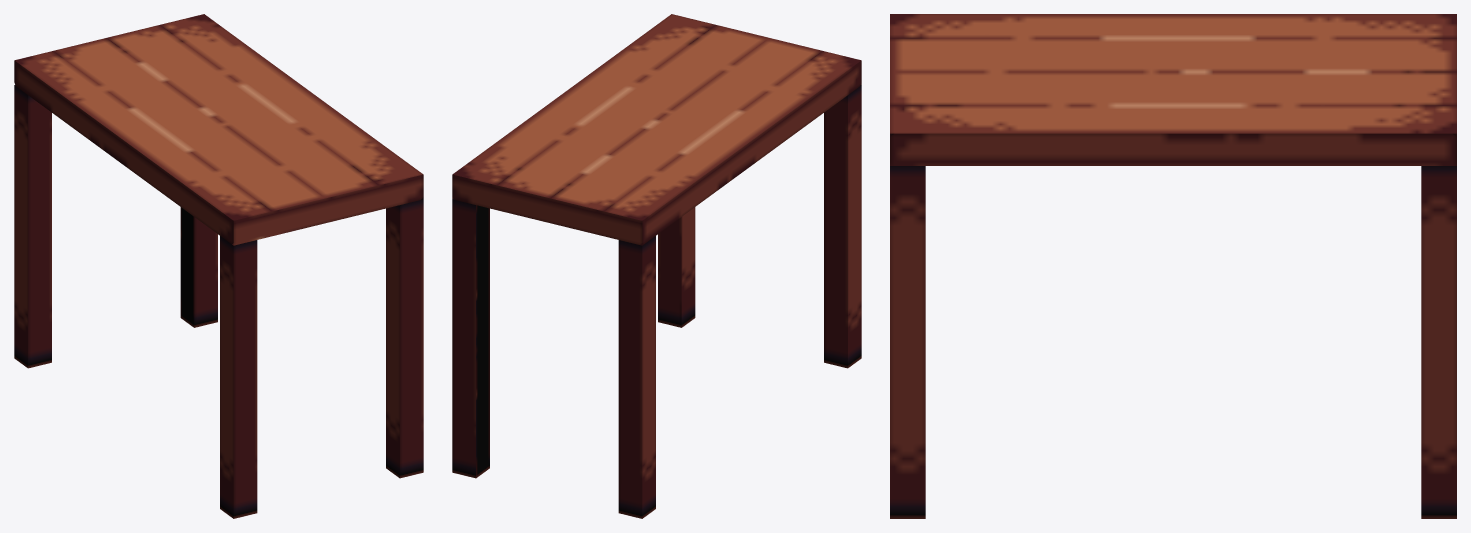
File: Table.obj
The picture shows the model from 3 angles, left to right: view 1: azimuth 30°, elevation 25°; view 2: azimuth 150°, elevation 25°; view 3: azimuth 270°, elevation 25°; orthographic projection. The views are drawn at different scales.
Parts seen in each view (by area): view 1: Default; view 2: Default; view 3: Default.
Part boxes in pixels (x1,y1,x2,y2): Default: (14, 14, 423, 518); Default: (452, 14, 861, 518); Default: (890, 14, 1456, 518).
Size of the model in its own units: 0.32 by 0.48 by 0.64.
Materials: 1 (1 with a texture image).
